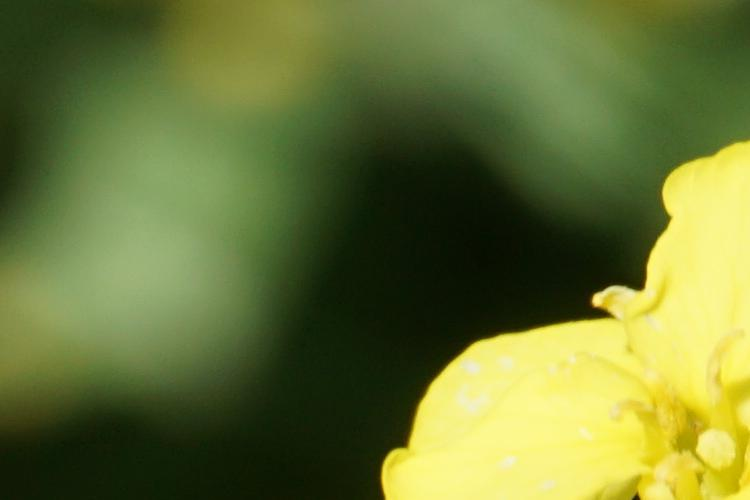yellow: (380, 133, 749, 500)
